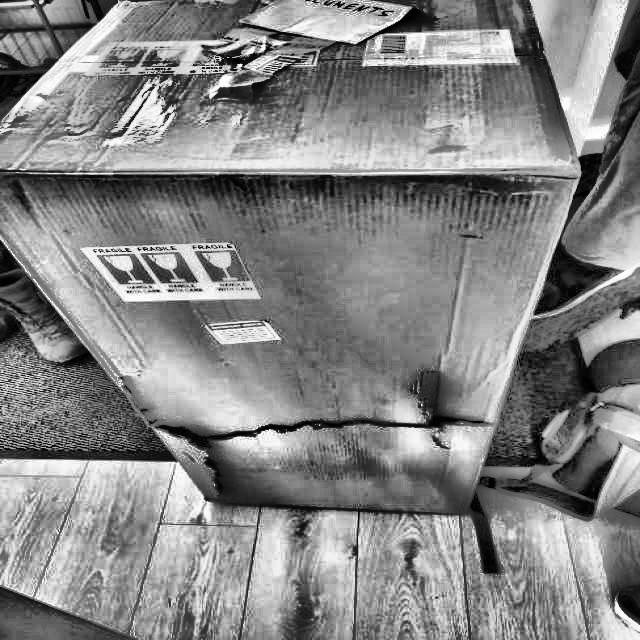box: (1, 0, 590, 520)
hole: (146, 402, 498, 503)
